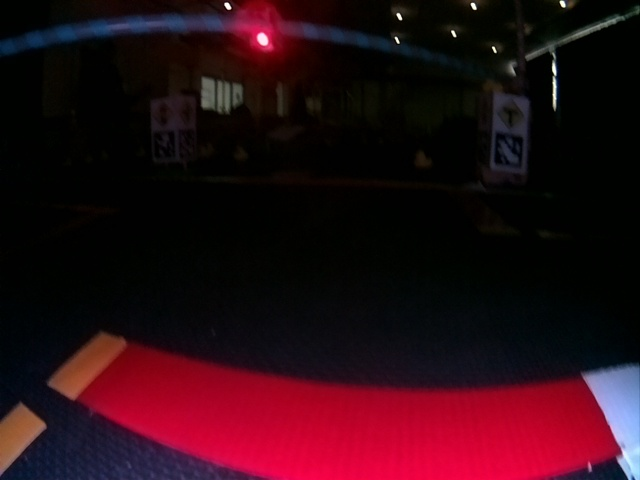Duckie: (417, 152, 430, 167), (237, 149, 247, 159)
Intersection sign: (496, 95, 525, 130), (178, 99, 195, 127)
QR code: (492, 132, 526, 170), (154, 129, 174, 159), (179, 129, 194, 158)
Signal sign: (152, 101, 174, 127)
Traffic light: (251, 7, 273, 49)
